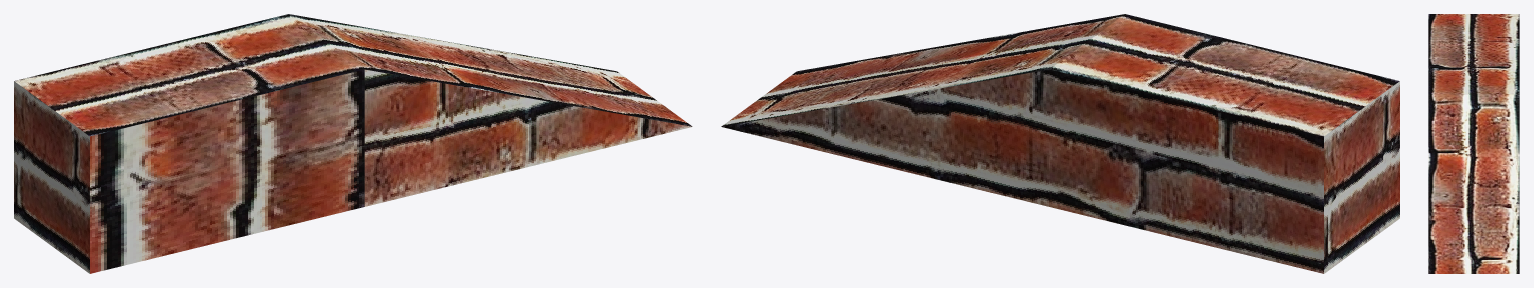
The model's file is sm_ramp.gltf.
The picture shows the model from 3 angles, left to right: view 1: azimuth 30°, elevation 25°; view 2: azimuth 150°, elevation 25°; view 3: azimuth 270°, elevation 25°; orthographic projection. The views are drawn at different scales.
Parts seen in each view (by area): view 1: MeshExample; view 2: MeshExample; view 3: MeshExample.
Boxes of the visible parts, <box> form: MeshExample: <box>14,14,692,273</box>; MeshExample: <box>721,14,1399,273</box>; MeshExample: <box>1428,14,1519,273</box>.
Bounding box in the file's own units: 9.18 × 2 × 2.
Materials: 1 (1 with a texture image).
